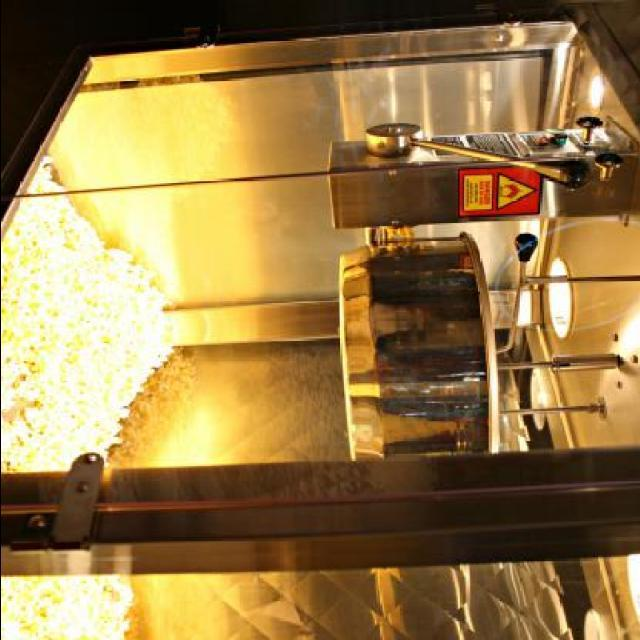Popcorn: (1, 158, 170, 640)
